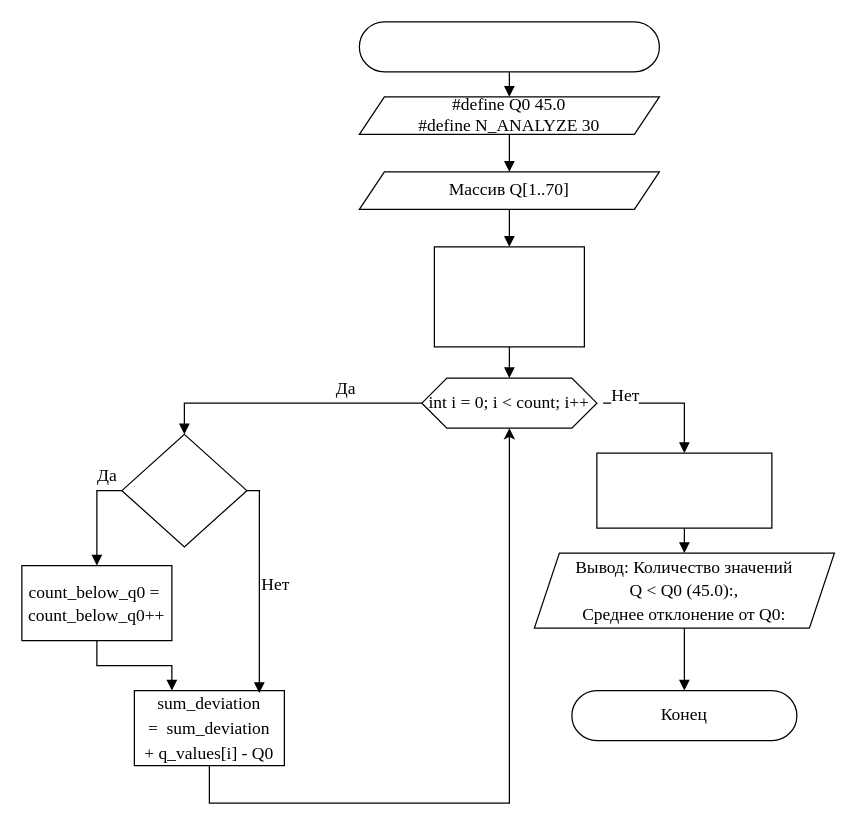
The diagram is 856 pixels wide and 835 high, and some of its shapes have lost their labels. Each missing label, with the centre of its shape:
"average_deviation = sum_deviation / count" belongs at point 684,490.
"count_below = 0 sum_deviation = 0 count = N_ANALYZE" belongs at point 508,296.
"q_values[i] < Q0" belongs at point 184,490.
"Начало" belongs at point 508,46.
